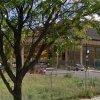Tree: (9, 0, 100, 71)
